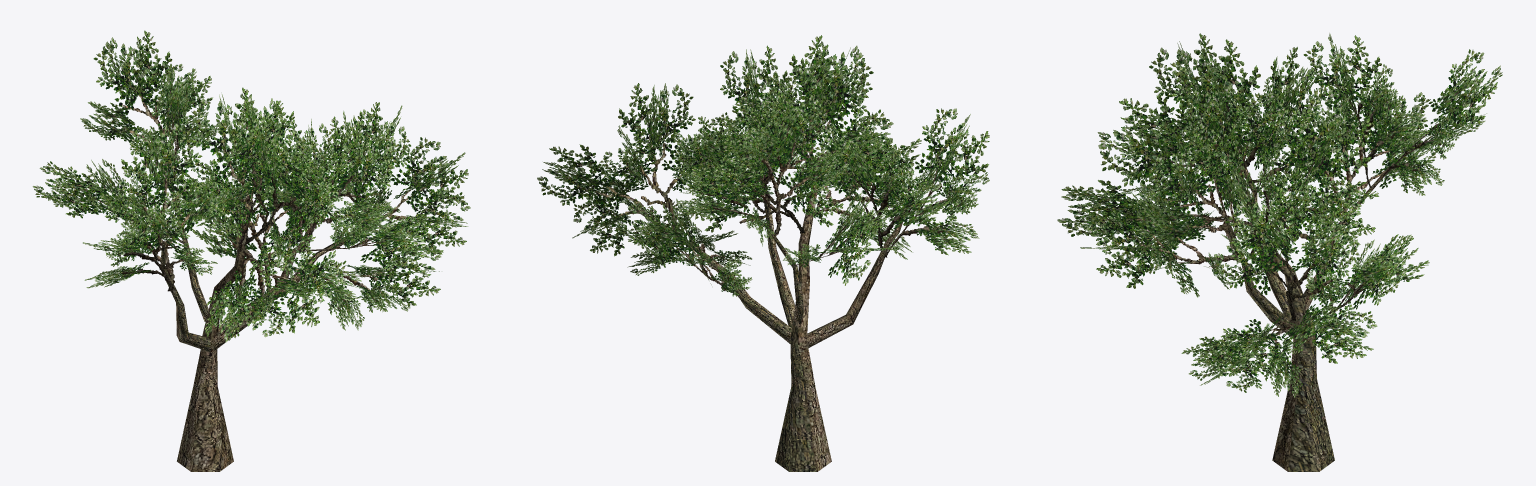
Rendered from roble_c.glb.
3 renders of one model, left to right at view 1: azimuth 30°, elevation 25°; view 2: azimuth 150°, elevation 25°; view 3: azimuth 270°, elevation 25°, orthographic. The views are drawn at different scales.
Visible parts, largest first — view 1: Copa, Tronco; view 2: Copa, Tronco; view 3: Copa, Tronco.
Part boxes in pixels (bbox=[...]): Copa: bbox=[32, 30, 470, 342]; Tronco: bbox=[89, 93, 429, 471]; Copa: bbox=[537, 35, 989, 296]; Tronco: bbox=[591, 91, 956, 471]; Copa: bbox=[1057, 33, 1502, 397]; Tronco: bbox=[1129, 91, 1457, 471].
Size of the model in its own units: 12.19 by 10.89 by 10.57.
2 materials, 2 textured.
